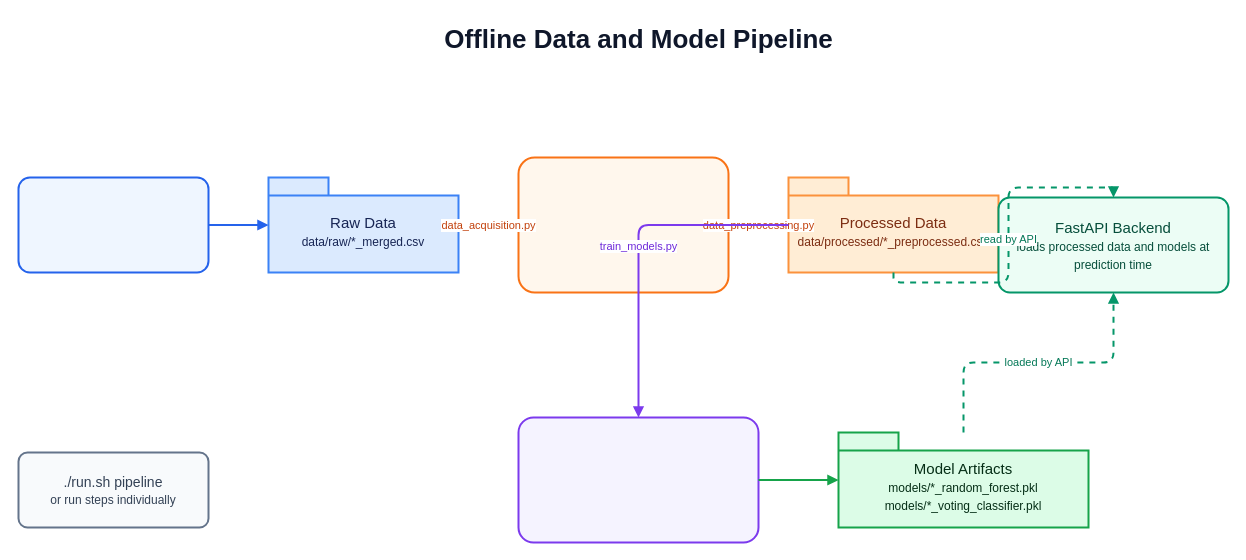
Image size: 1246x560. Some labels were removed from this diagram. The centre of each missing label's shape, as x and y in pixels:
Football CSV Source football-data.co.uk Leagues: E0, I1, SP1, F1, D1: (113,224)
Model Training Random Forest LogReg, KNN, SVM, HGB, XGBoost Voting Classifier: (638,479)
Preprocessing parse dates engineer rolling stats handle missing values: (623,224)
